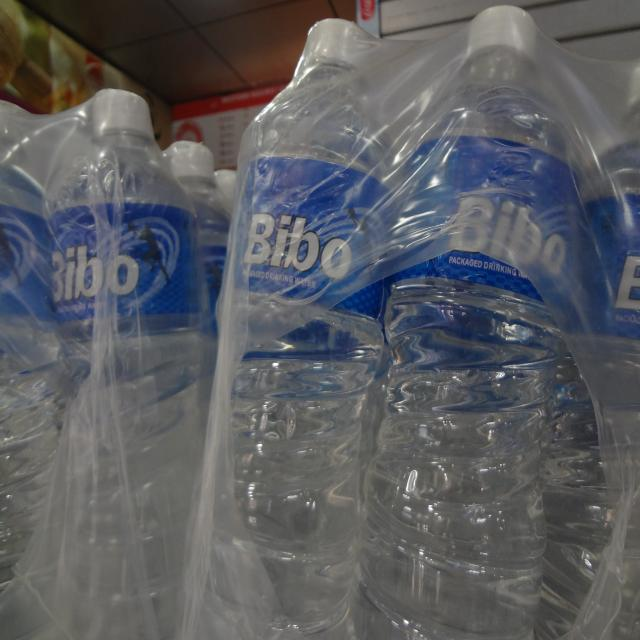plastic_bottle: (1, 87, 209, 638)
